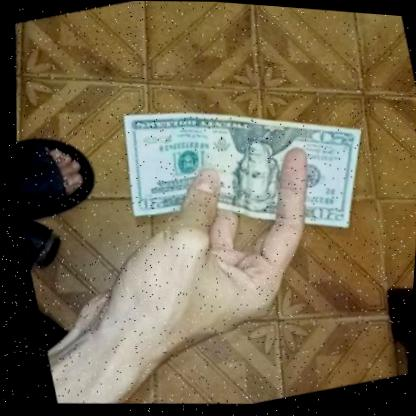twenty-front: (94, 60, 386, 288)
